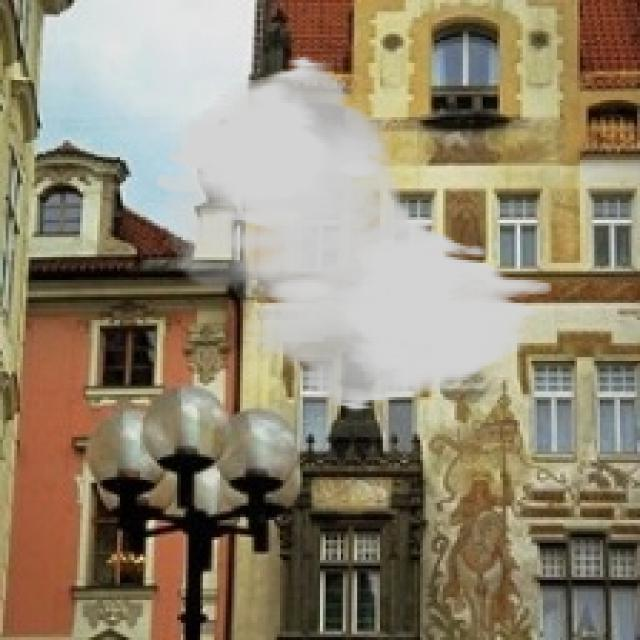smoke: (154, 54, 552, 412)
